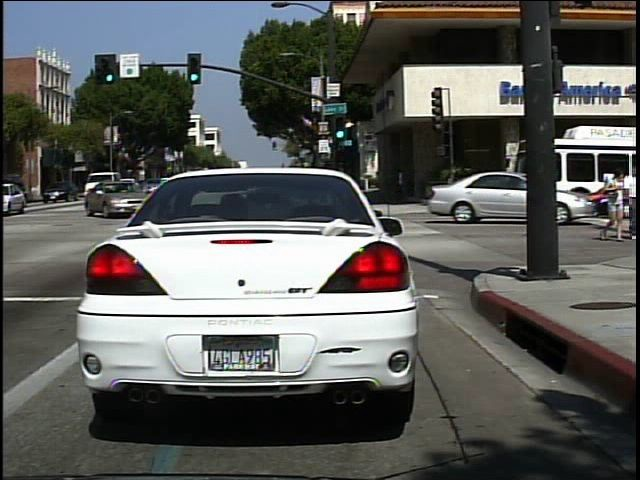person: (605, 166, 632, 244), (540, 167, 561, 241), (620, 163, 635, 243)
